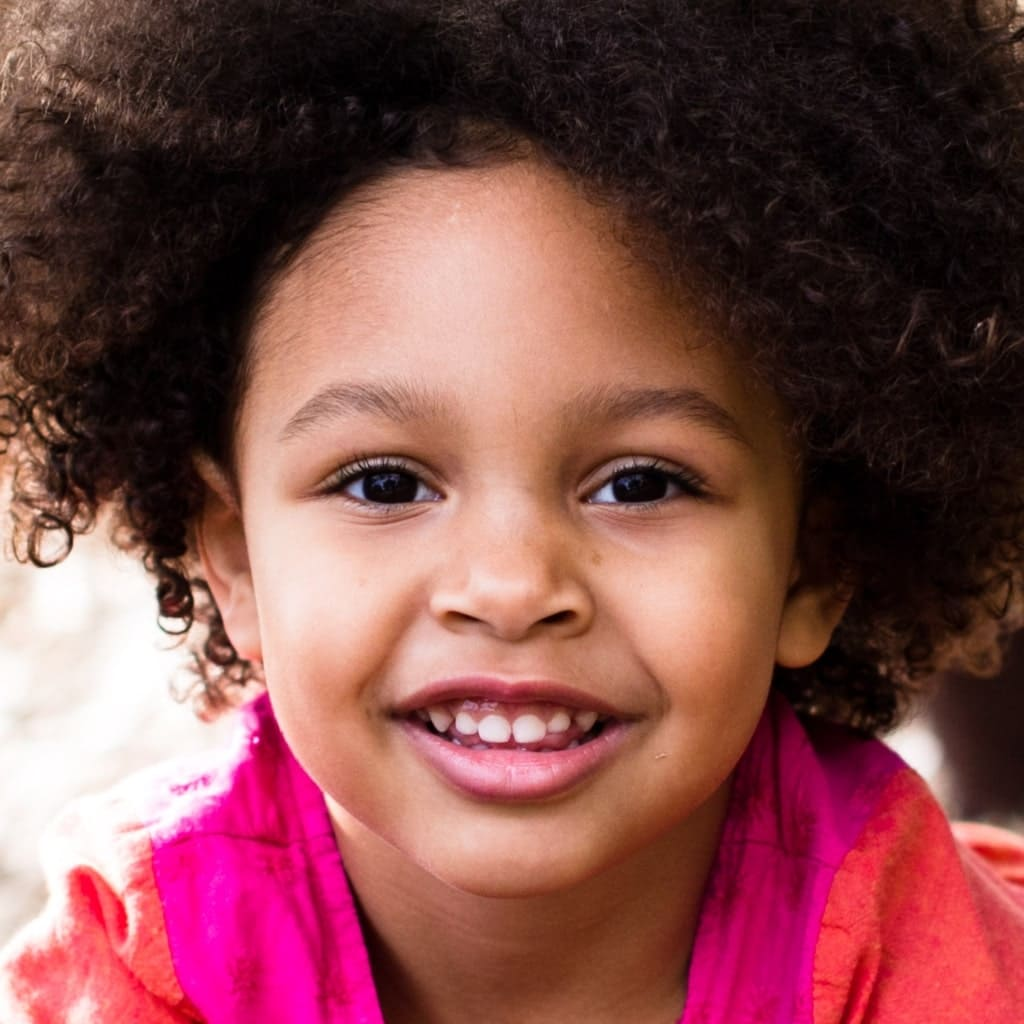without_mask: (252, 352, 776, 795)
